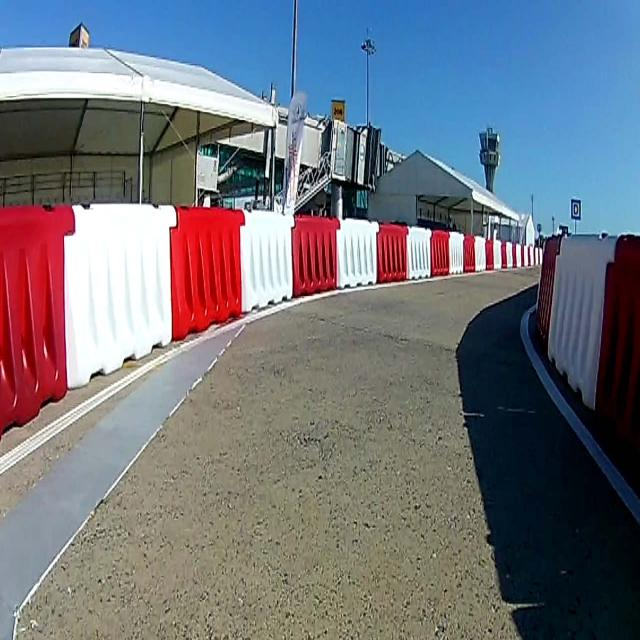durak: (570, 197, 582, 218)
